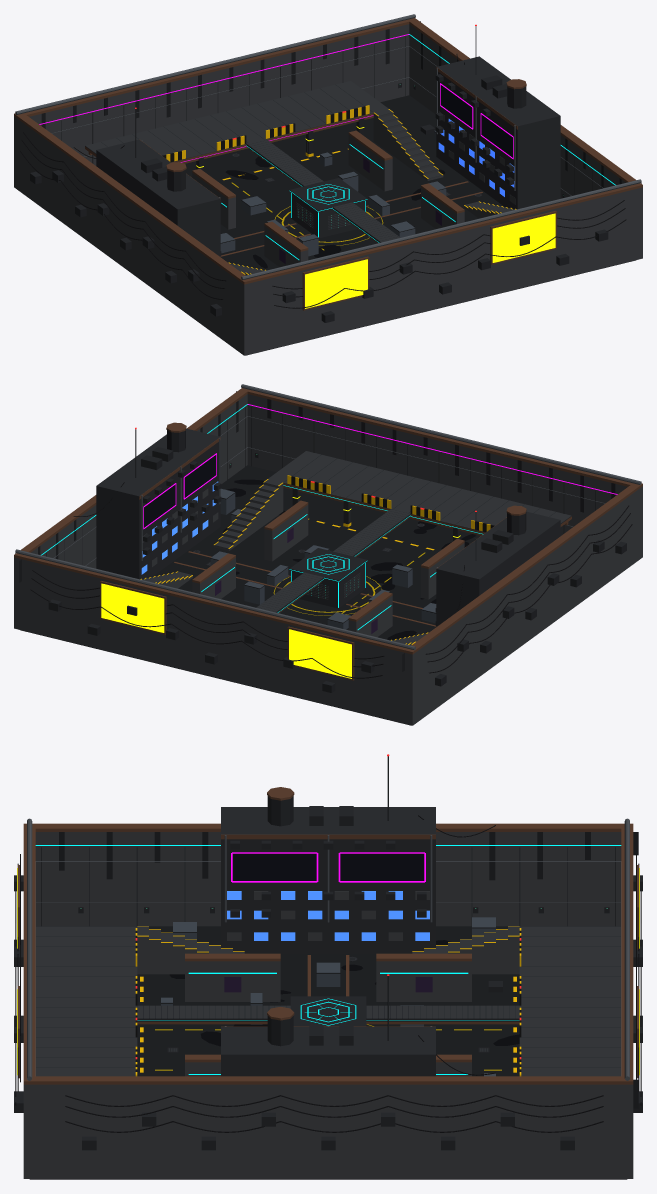
The model's file is arena_low.glb.
3 renders of one model, top to bottom at view 1: azimuth 30°, elevation 25°; view 2: azimuth 150°, elevation 25°; view 3: azimuth 270°, elevation 25°, orthographic. The views are drawn at different scales.
Parts seen in each view (by area): view 1: Outer_Walls, Outer_Walls_Decor, Ground, Side_Building_E, Upper_Platform_S, Side_Building_W, Divider_Walls, Side_Buildings_Decor, Central_Tower, Crates, Stairs_4, Ground_Decor (+9 smaller); view 2: Outer_Walls, Outer_Walls_Decor, Ground, Side_Building_E, Upper_Platform_N, Side_Building_W, Divider_Walls, Side_Buildings_Decor, Central_Tower, Crates, Ground_Decor, Stairs_2 (+9 smaller); view 3: Outer_Walls, Side_Building_W, Outer_Walls_Decor, Ground, Upper_Platform_N, Upper_Platform_S, Side_Buildings_Decor, Divider_Walls, Side_Building_E, Stairs_1, Stairs_3, South_Bridge (+9 smaller).
Boxes of the visible parts, <box> form: Outer_Walls: <box>14,18,642,355</box>; Outer_Walls_Decor: <box>15,14,641,322</box>; Ground: <box>185,95,635,355</box>; Side_Building_E: <box>436,56,560,209</box>; Upper_Platform_S: <box>85,81,388,162</box>; Side_Building_W: <box>96,139,220,256</box>; Divider_Walls: <box>192,130,464,267</box>; Side_Buildings_Decor: <box>73,24,526,255</box>; Central_Tower: <box>289,178,366,238</box>; Crates: <box>220,130,446,256</box>; Stairs_4: <box>373,109,443,180</box>; Ground_Decor: <box>220,148,482,268</box>; Outer_Walls: <box>14,388,642,725</box>; Outer_Walls_Decor: <box>15,384,641,692</box>; Ground: <box>20,465,480,725</box>; Side_Building_E: <box>96,428,220,579</box>; Upper_Platform_N: <box>268,451,571,534</box>; Side_Building_W: <box>436,511,560,626</box>; Divider_Walls: <box>192,500,464,637</box>; Side_Buildings_Decor: <box>73,422,526,625</box>; Central_Tower: <box>290,548,367,608</box>; Crates: <box>210,488,436,629</box>; Ground_Decor: <box>174,479,475,640</box>; Stairs_2: <box>213,479,283,550</box>; Outer_Walls: <box>23,823,633,1178</box>; Side_Building_W: <box>221,807,435,953</box>; Outer_Walls_Decor: <box>14,818,642,1150</box>; Ground: <box>29,926,627,1179</box>; Upper_Platform_N: <box>36,926,137,1076</box>; Upper_Platform_S: <box>519,926,620,1076</box>; Side_Buildings_Decor: <box>221,754,495,1075</box>; Divider_Walls: <box>185,953,471,1076</box>; Side_Building_E: <box>221,1027,435,1076</box>; Stairs_1: <box>137,926,244,974</box>; Stairs_3: <box>412,926,519,974</box>; South_Bridge: <box>366,1005,519,1021</box>.
Size of the model in its own units: 52.6 by 17.4 by 52.6.
